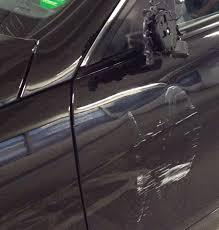Door: (92, 66, 219, 217)
